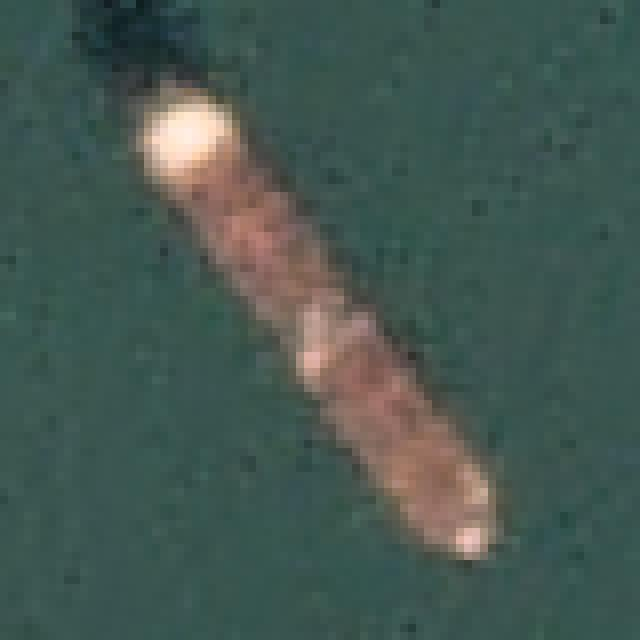ship: (121, 59, 527, 588)
